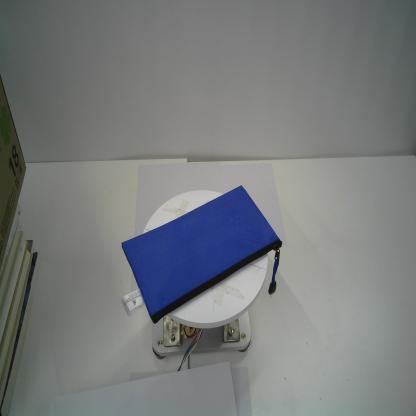Stationery: (119, 183, 283, 324)
